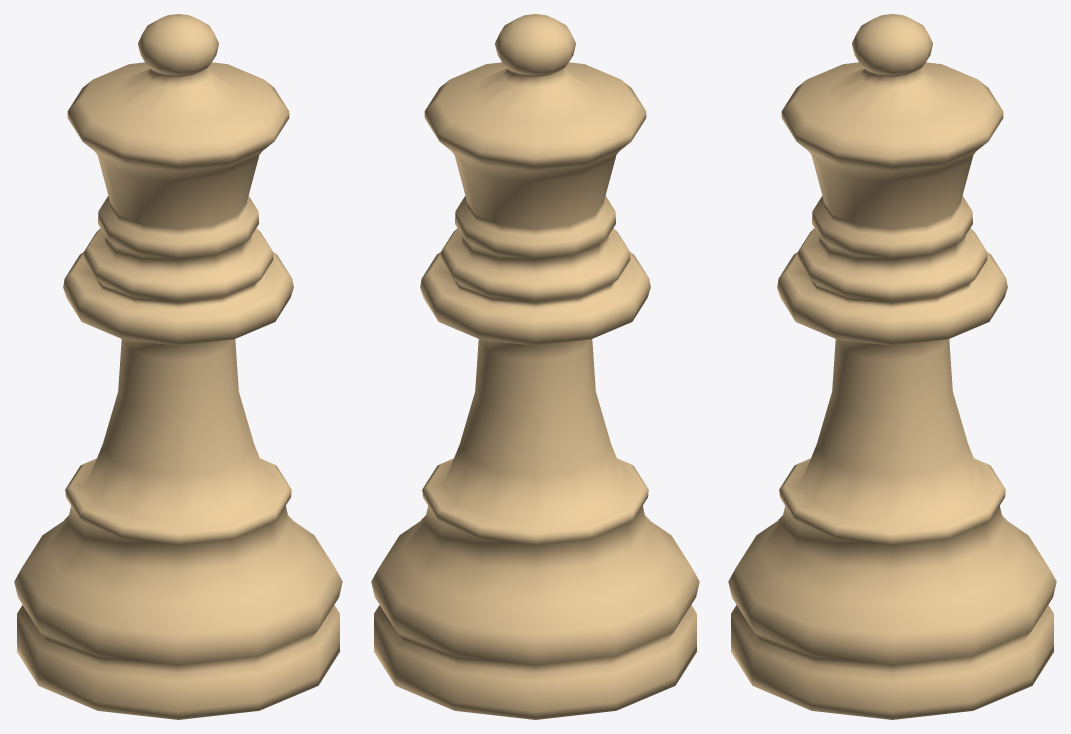
The model's file is white_queen.gltf.
3 views of the same model, side by side, from view 1: azimuth 30°, elevation 25°; view 2: azimuth 150°, elevation 25°; view 3: azimuth 270°, elevation 25° (orthographic).
Parts seen in each view (by area): view 1: queen; view 2: queen; view 3: queen.
Boxes of the visible parts, <box> form: queen: <box>14,14,342,719</box>; queen: <box>371,14,699,719</box>; queen: <box>728,14,1056,719</box>.
Size of the model in its own units: 16.38 by 34.77 by 16.38.
